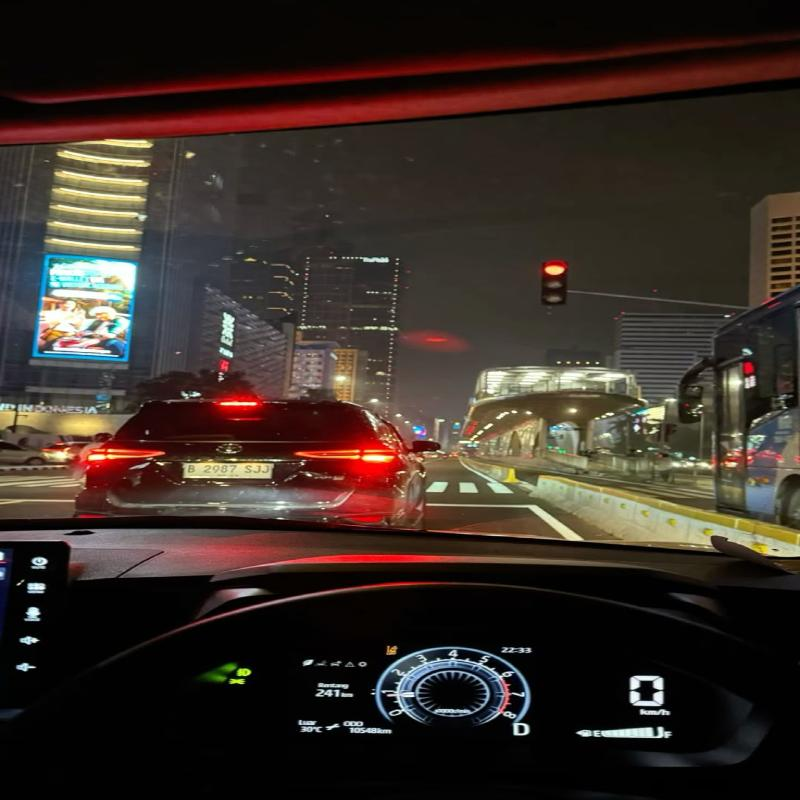license plate on a car: (183, 462, 273, 478)
